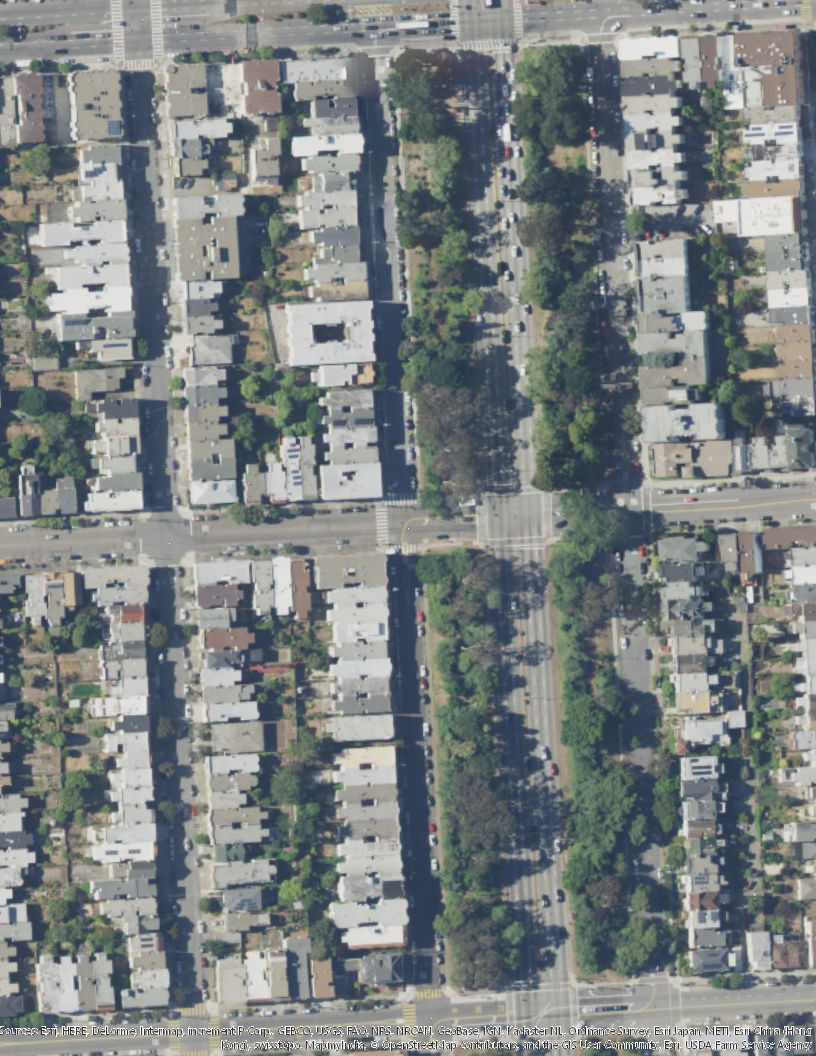zebracross: (108, 1, 127, 60), (148, 1, 166, 60), (373, 507, 392, 549), (462, 38, 512, 52), (173, 1001, 207, 1016), (404, 1002, 418, 1036), (387, 493, 419, 507), (449, 1, 461, 38), (512, 1, 524, 38), (388, 543, 425, 555), (122, 59, 153, 73), (209, 1014, 221, 1050), (416, 988, 443, 999), (172, 1017, 180, 1049)
